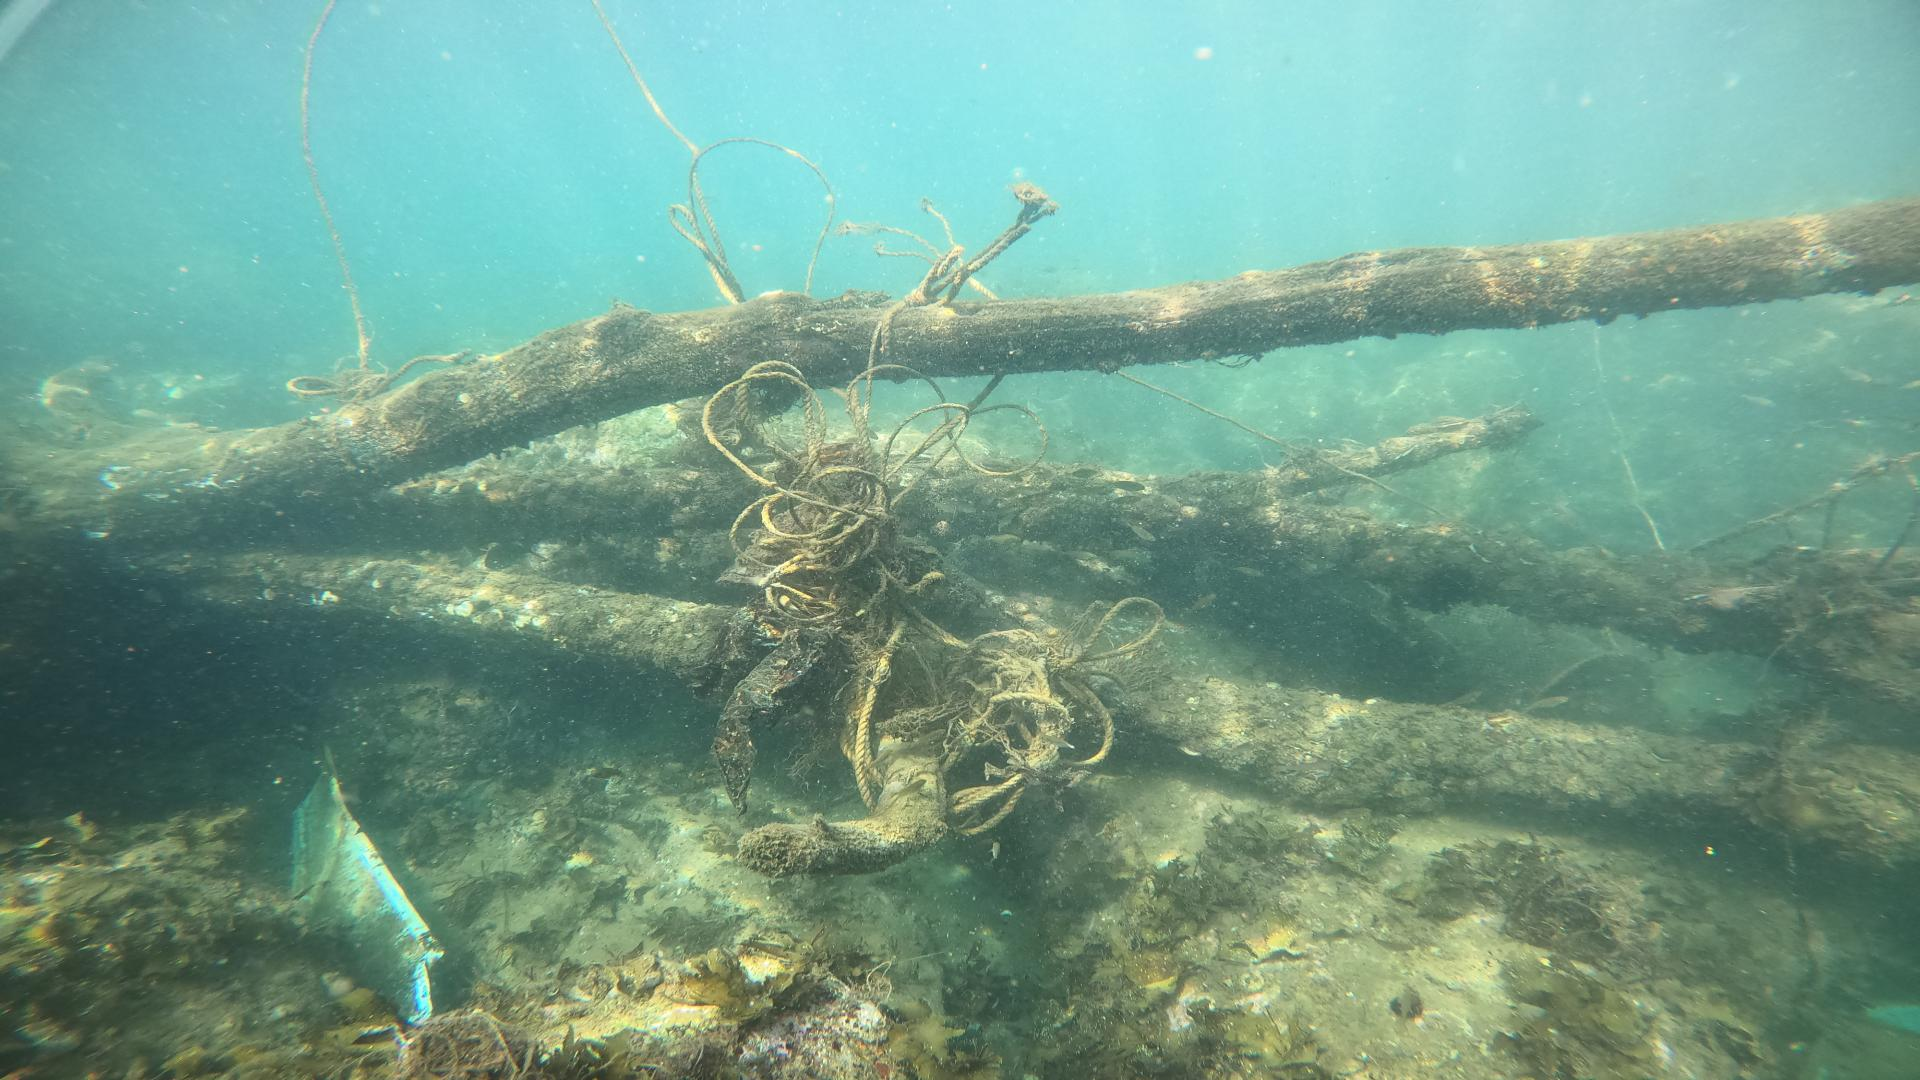bundle of ropes: (592, 0, 1166, 837), (286, 0, 455, 473)
wood: (0, 200, 1920, 876)
